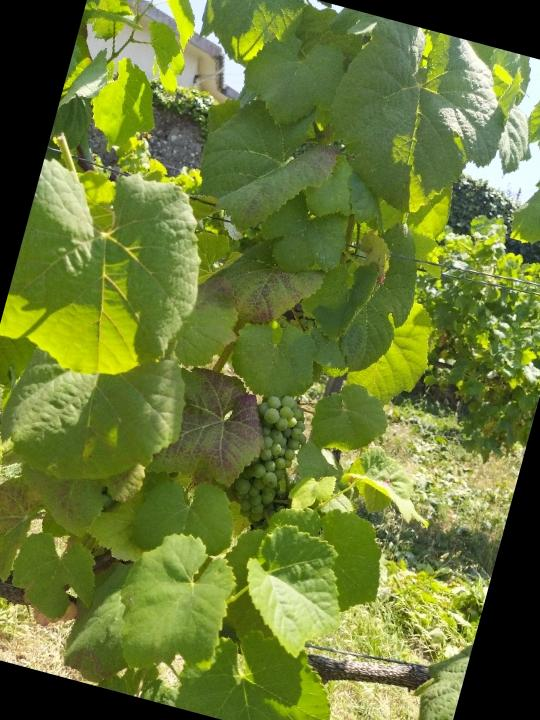grape: (221, 383, 318, 532)
